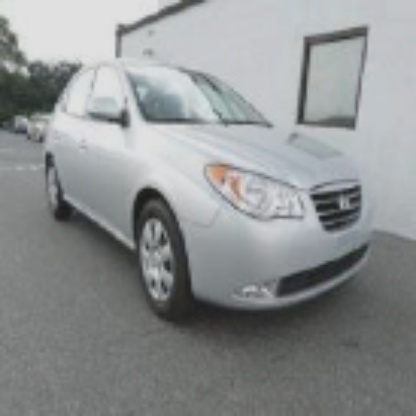Vehicle: (43, 63, 378, 324)
